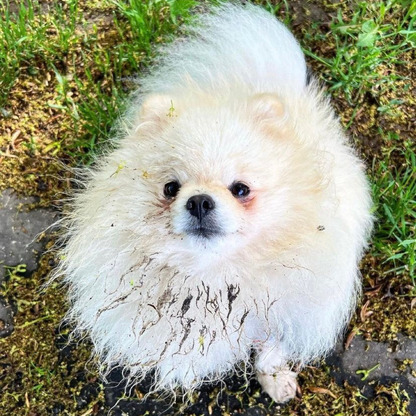Pomeranian: (73, 31, 374, 400)
